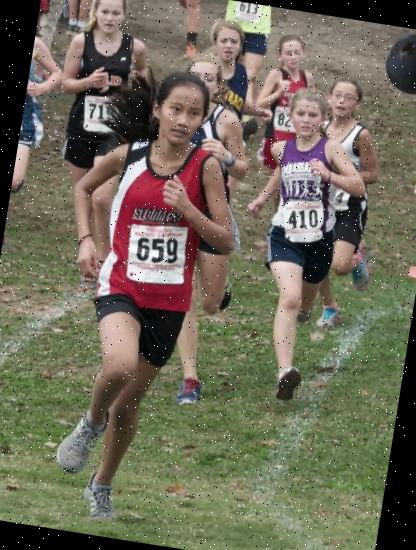Grape: (379, 29, 416, 101)
